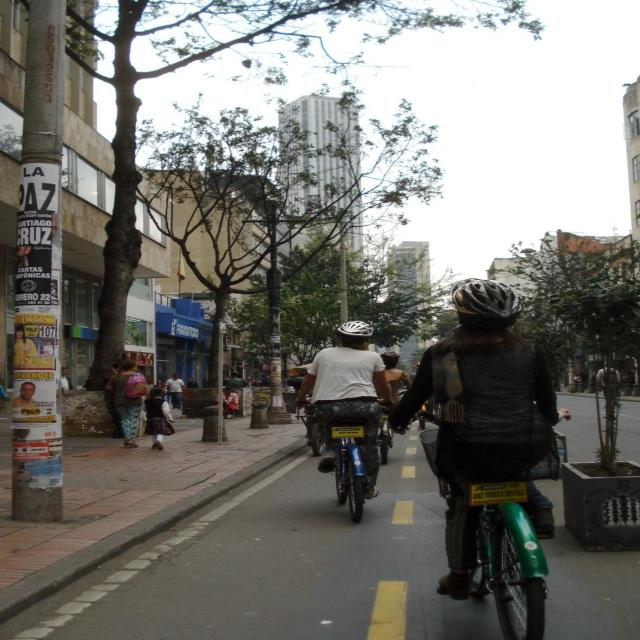body: (386, 276, 575, 604), (293, 319, 396, 501), (8, 318, 61, 408), (104, 358, 152, 448), (371, 350, 414, 435), (200, 365, 307, 393), (142, 386, 176, 451), (103, 362, 125, 439), (595, 361, 622, 408), (162, 373, 186, 409), (214, 386, 240, 419), (14, 244, 40, 274), (406, 359, 428, 390), (153, 379, 171, 403), (11, 427, 34, 443), (60, 367, 75, 391), (577, 372, 594, 392), (186, 376, 199, 388), (0, 384, 9, 398)
